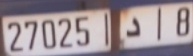0: (40, 19, 56, 50)
2: (57, 18, 73, 49), (8, 22, 24, 52)
5: (75, 16, 90, 47)
7: (24, 20, 40, 51)
8: (176, 6, 190, 37)
d: (125, 16, 142, 39)
